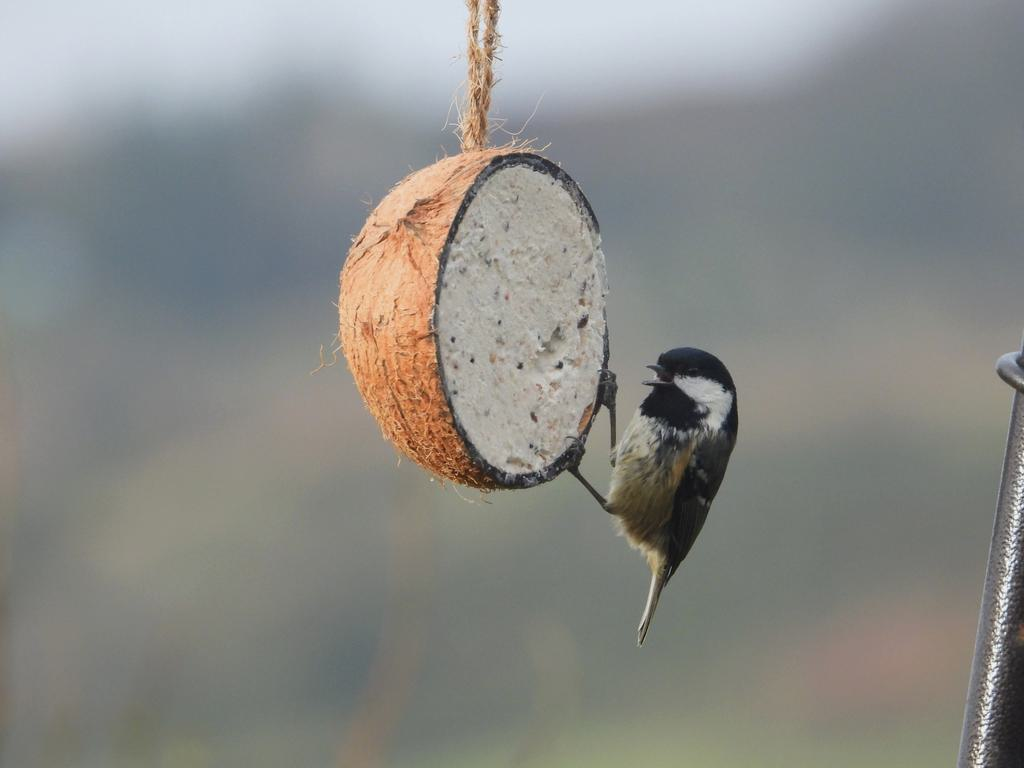PeriparusAter: (565, 344, 740, 648)
